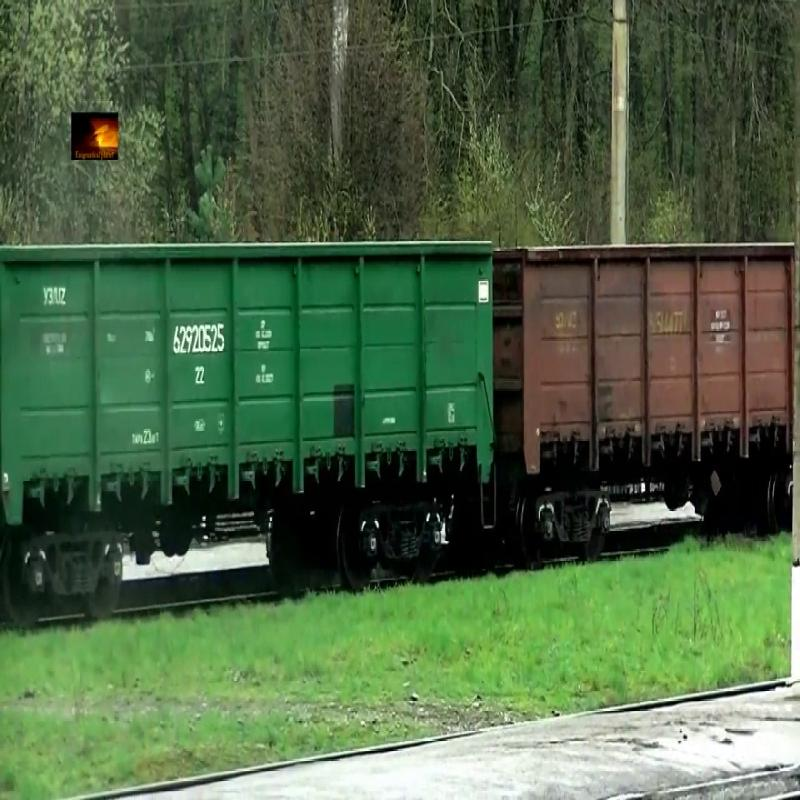train: (1, 240, 493, 529), (494, 245, 796, 474)
